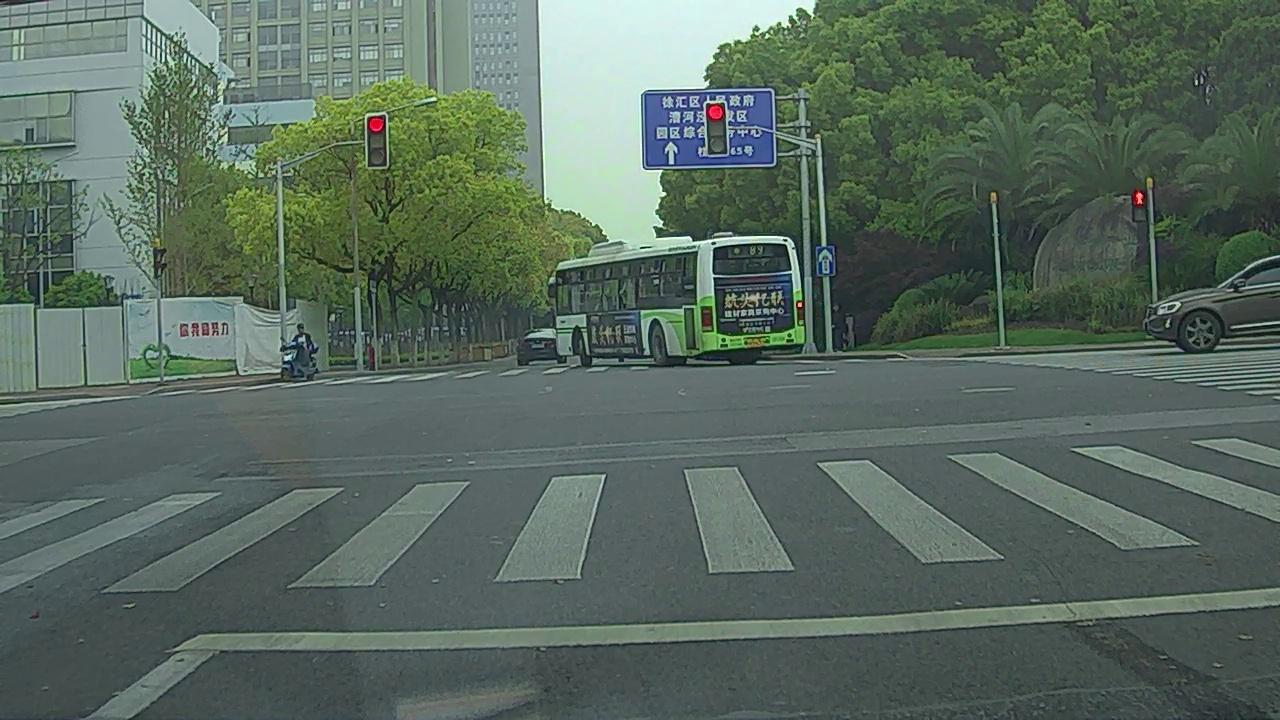traffic_light: (366, 115, 388, 165), (707, 104, 727, 155)
